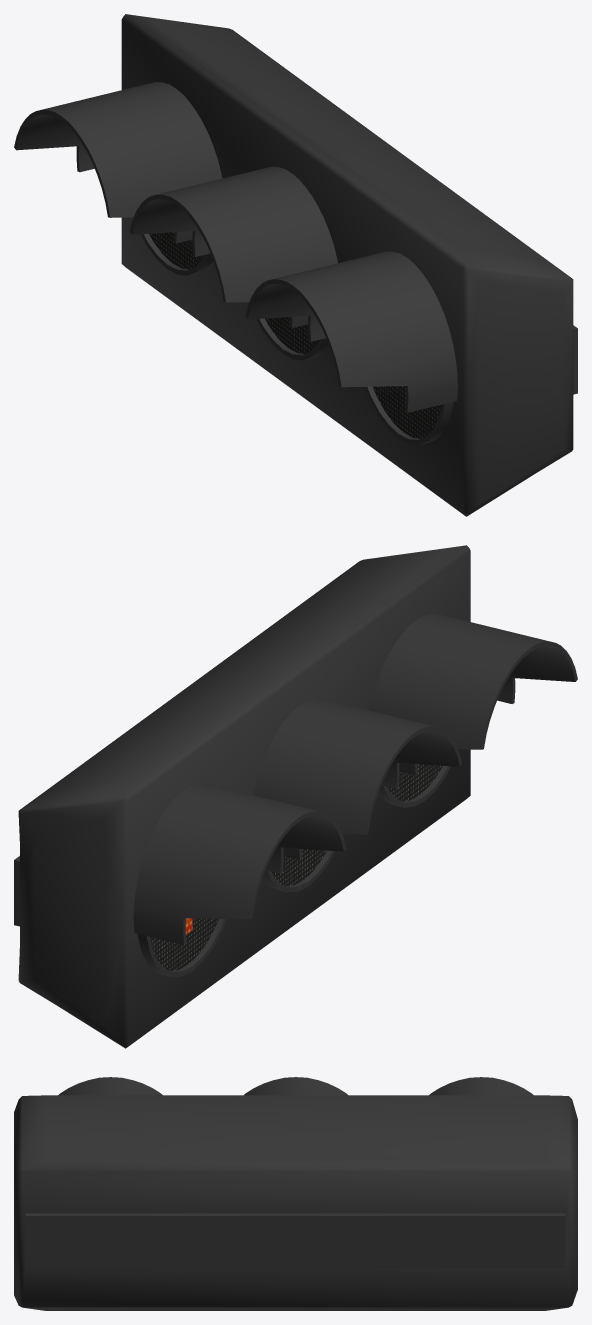
Rendered from 横向直行灯_RedLight.fbx.
3 renders of one model, top to bottom at view 1: azimuth 30°, elevation 25°; view 2: azimuth 150°, elevation 25°; view 3: azimuth 270°, elevation 25°, orthographic. The views are drawn at different scales.
Parts seen in each view (by area): view 1: 横向直行灯_RedLight; view 2: 横向直行灯_RedLight; view 3: 横向直行灯_RedLight.
Part boxes in pixels (x1,y1,x2,y2): 横向直行灯_RedLight: (14, 14, 577, 516); 横向直行灯_RedLight: (14, 545, 577, 1048); 横向直行灯_RedLight: (14, 1077, 577, 1310).
Bounding box in the file's own units: 0.6 × 0.65 × 1.58.
Materials: 3 (2 with a texture image).
